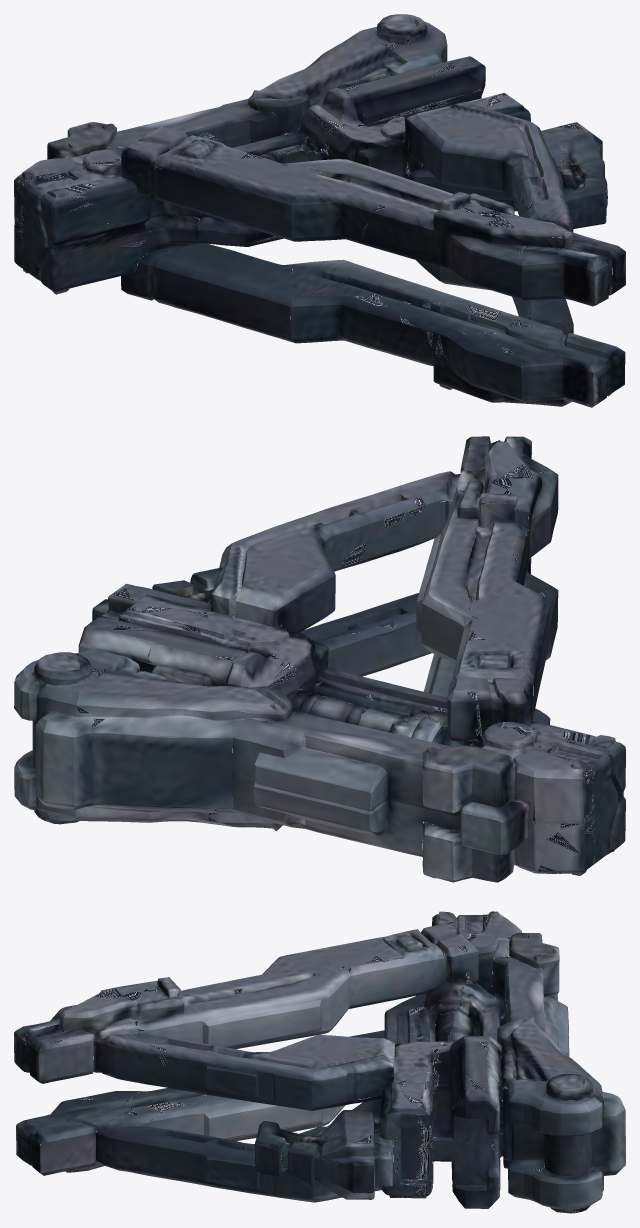
File: HL_WPN_DarkGunSet_07.glb
The picture shows the model from 3 angles, top to bottom: view 1: azimuth 30°, elevation 25°; view 2: azimuth 150°, elevation 25°; view 3: azimuth 270°, elevation 25°; orthographic projection. The views are drawn at different scales.
Visible parts, largest first — view 1: meshes[0]; view 2: meshes[0]; view 3: meshes[0].
Part boxes in pixels (x1,y1,x2,y2): meshes[0]: (14,14,625,407); meshes[0]: (14,436,625,882); meshes[0]: (14,911,625,1213).
Size of the model in its own units: 0.2056 by 0.0724 by 0.2351.
Materials: 1 (1 with a texture image).
